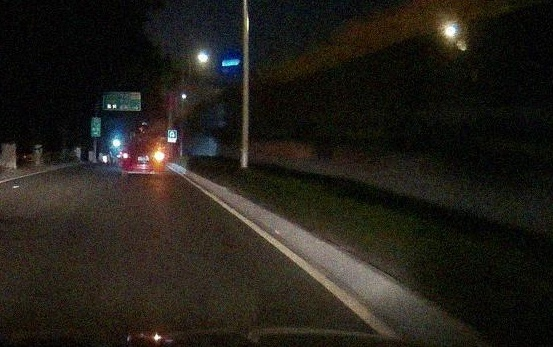L_light: (123, 153, 131, 158)
R_light: (153, 154, 163, 159)
T_light: (142, 143, 149, 145)
night-right: (122, 142, 165, 180)
